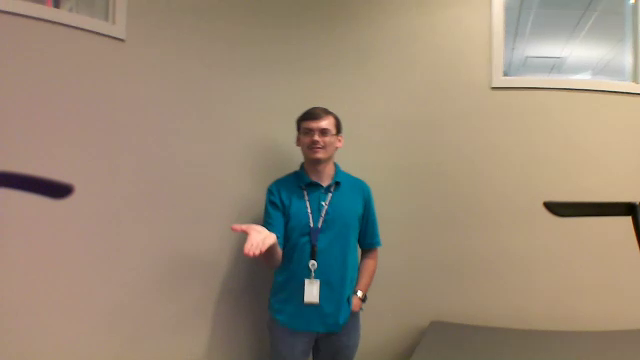land: (218, 213, 283, 264)
